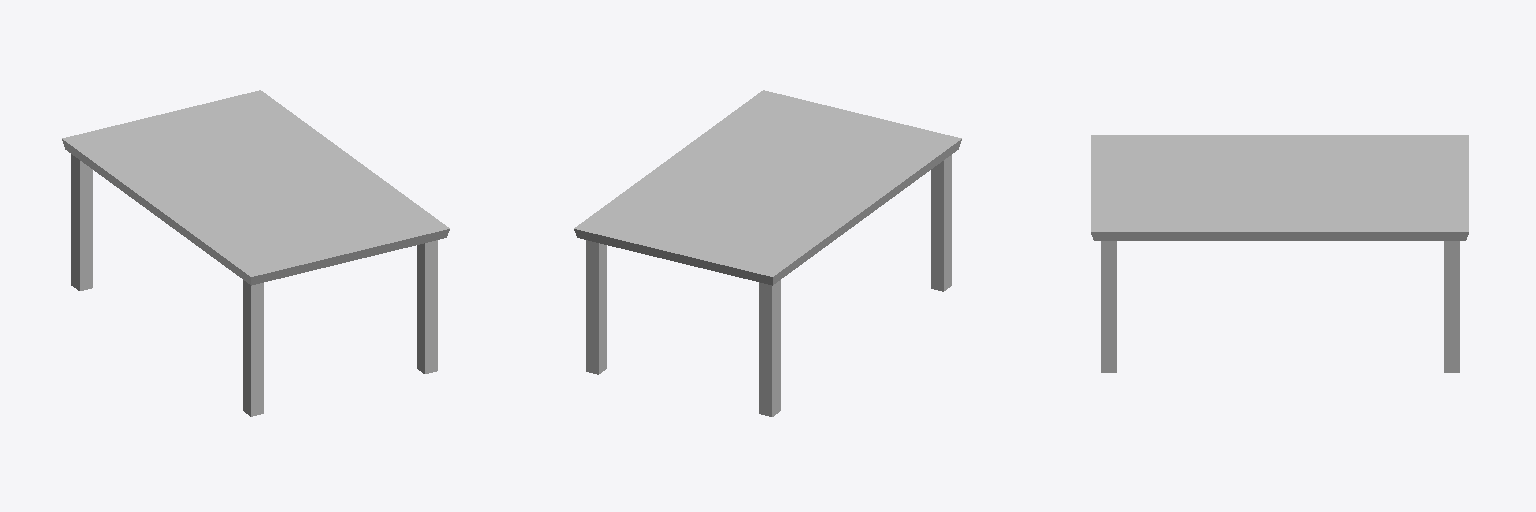
File: Table_ex.obj
The picture shows the model from 3 angles: view 1: azimuth 30°, elevation 25°; view 2: azimuth 150°, elevation 25°; view 3: azimuth 270°, elevation 25°; orthographic projection.
Parts seen in each view (by area): view 1: Table; view 2: Table; view 3: Table.
Part boxes in pixels (bbox=[...]): Table: bbox=[62, 90, 449, 416]; Table: bbox=[574, 90, 961, 416]; Table: bbox=[1091, 135, 1468, 372].
Size of the model in its own units: 56.73 by 39.4 by 93.5.